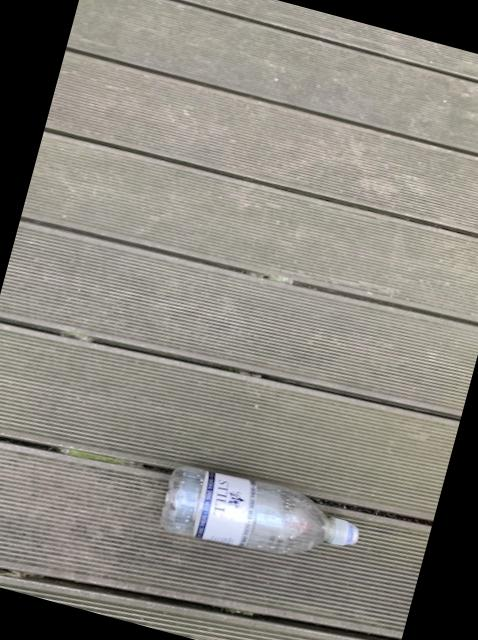plastic: (159, 464, 357, 550)
